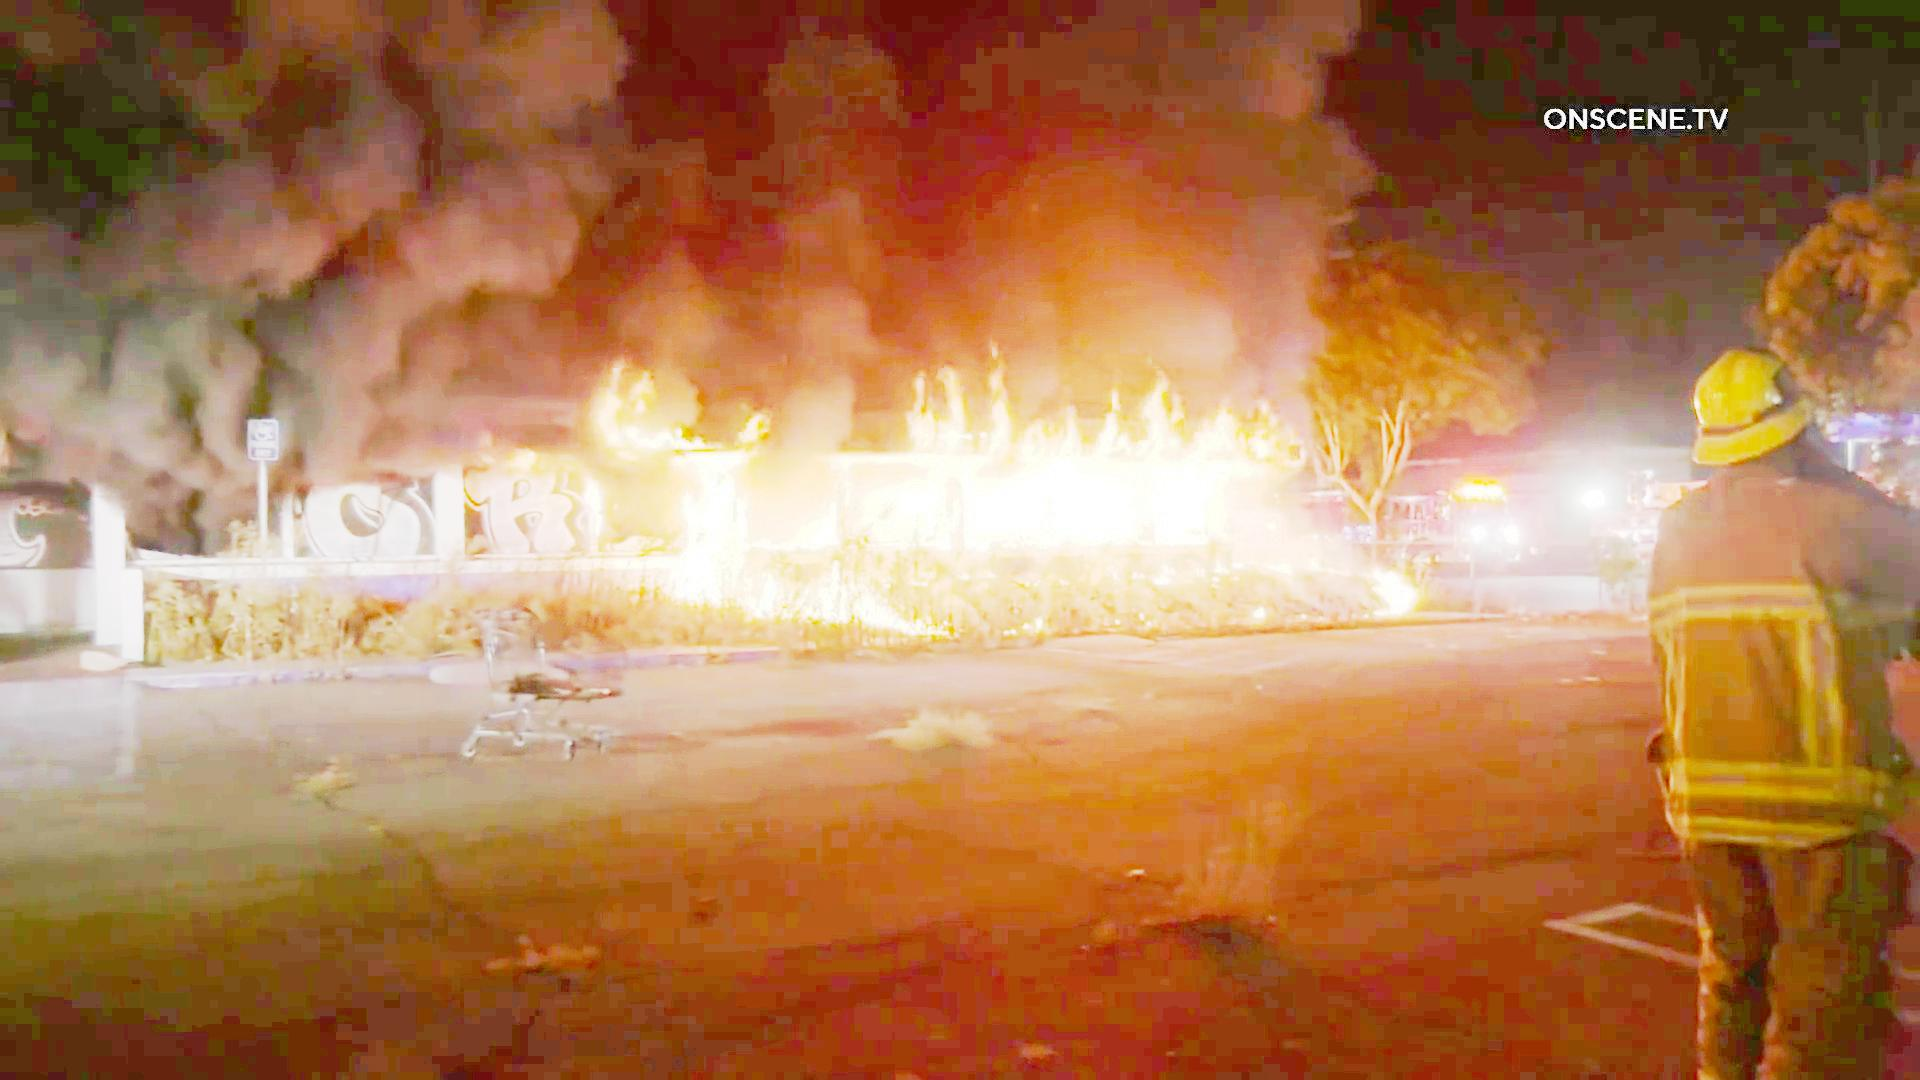fire: (855, 373, 1295, 556), (574, 393, 773, 600)
smoke: (51, 28, 646, 394)
